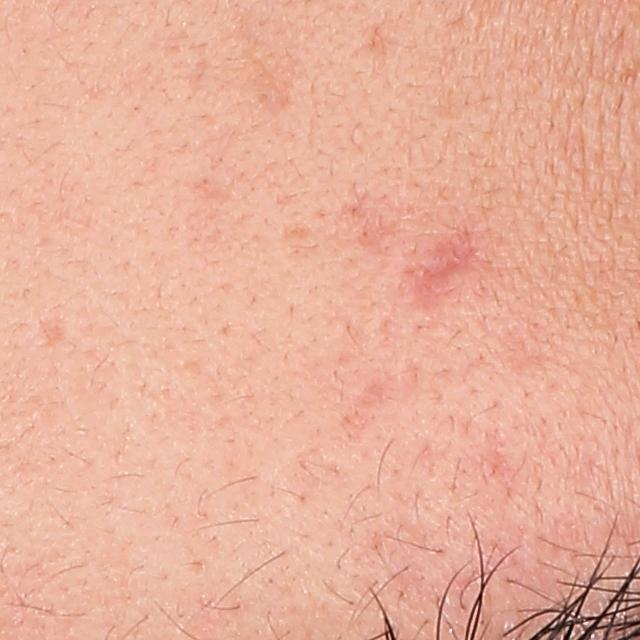atrophic_scar: (402, 223, 480, 312), (42, 317, 69, 348)
